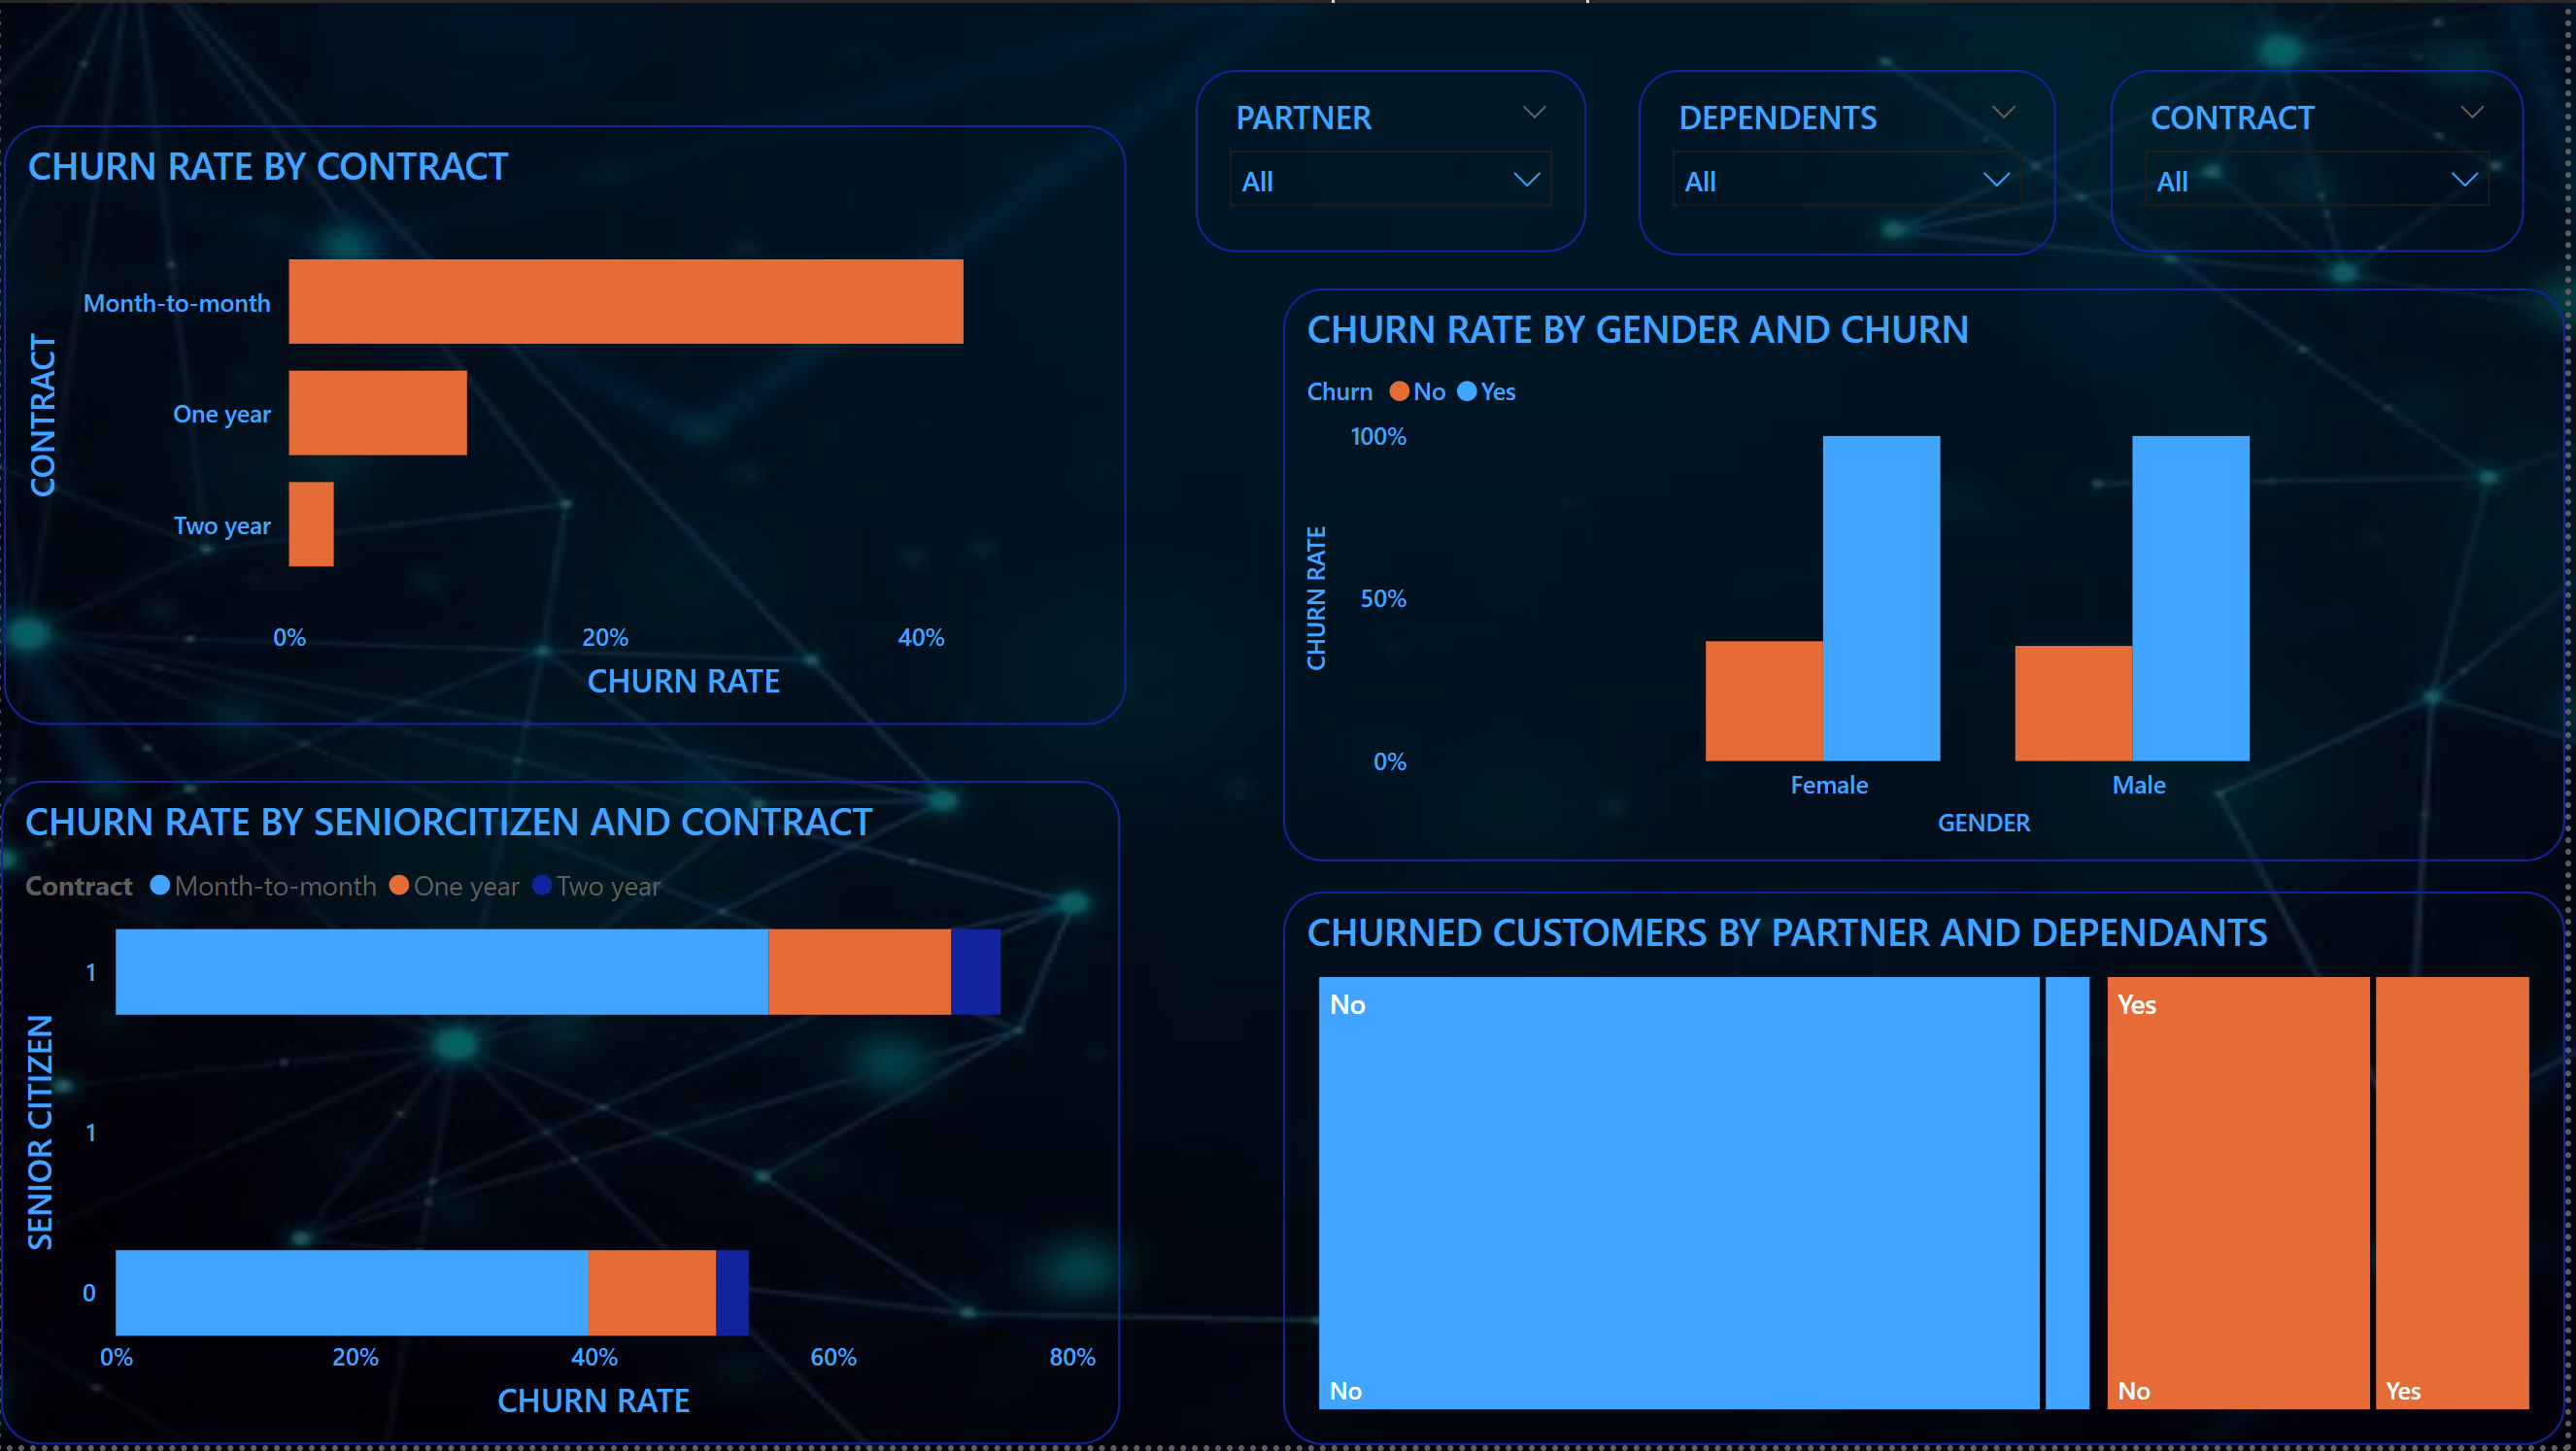

The page's visual inventory and layout, read from the dashboard file:
{"tool":"powerbi","page":{"name":"Page 2","canvas":[1280,720],"ordinal":1},"visuals":[{"type":"barChart","title":"CHURN RATE BY  CONTRACT","fields":{"Y":["Customer Churn.Churn Rate"],"Category":["Customer Churn.Contract"]},"box":[1.9,60.6,560.5,299.2],"z":0},{"type":"clusteredColumnChart","title":"CHURN RATE BY GENDER AND CHURN","fields":{"Category":["Customer Churn.gender"],"Y":["Customer Churn.Churn Rate"],"Series":["Customer Churn.Churn"]},"box":[640,142,640,285.9],"z":1000},{"type":"barChart","title":"CHURN RATE BY SENIORCITIZEN AND CONTRACT","fields":{"Category":["Customer Churn.SeniorCitizen"],"Y":["Customer Churn.Churn Rate"],"Series":["Customer Churn.Contract"]},"box":[0,388.2,558.6,331.4],"z":2000},{"type":"treemap","title":"CHURNED CUSTOMERS BY PARTNER AND DEPENDANTS","fields":{"Group":["Customer Churn.Partner"],"Values":["Customer Churn.Churned Customers"],"Details":["Customer Churn.Dependents"]},"box":[640,443.1,640,276.4],"z":3000},{"type":"slicer","fields":{"Values":["Customer Churn.Partner"]},"box":[596.4,34.1,195,90.9],"z":5000},{"type":"slicer","fields":{"Values":["Customer Churn.Dependents"]},"box":[818,34.1,208.3,92.8],"z":6000},{"type":"slicer","fields":{"Values":["Customer Churn.Contract"]},"box":[1052.8,34.1,206.4,90.9],"z":7000}]}

Visuals, with their boxes in screenshot pixels (x1, y1, x2, y2), scaled from the page's 1280x720 canvas onto the 2576x1451 screenshot:
"CHURN RATE BY  CONTRACT" barChart: <bbox>4, 122, 1132, 725</bbox>
"CHURN RATE BY GENDER AND CHURN" clusteredColumnChart: <bbox>1288, 287, 2575, 862</bbox>
"CHURN RATE BY SENIORCITIZEN AND CONTRACT" barChart: <bbox>0, 783, 1124, 1450</bbox>
"CHURNED CUSTOMERS BY PARTNER AND DEPENDANTS" treemap: <bbox>1288, 893, 2575, 1450</bbox>
slicer - Customer Churn.Partner: <bbox>1201, 69, 1593, 252</bbox>
slicer - Customer Churn.Dependents: <bbox>1646, 69, 2065, 255</bbox>
slicer - Customer Churn.Contract: <bbox>2118, 69, 2534, 252</bbox>
